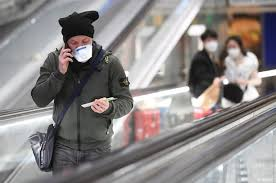mask: (66, 31, 95, 64), (225, 39, 241, 59), (203, 35, 219, 51)
